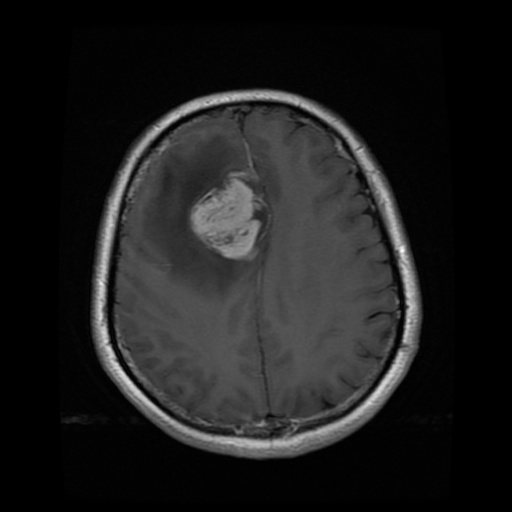meningioma: (187, 175, 266, 260)
